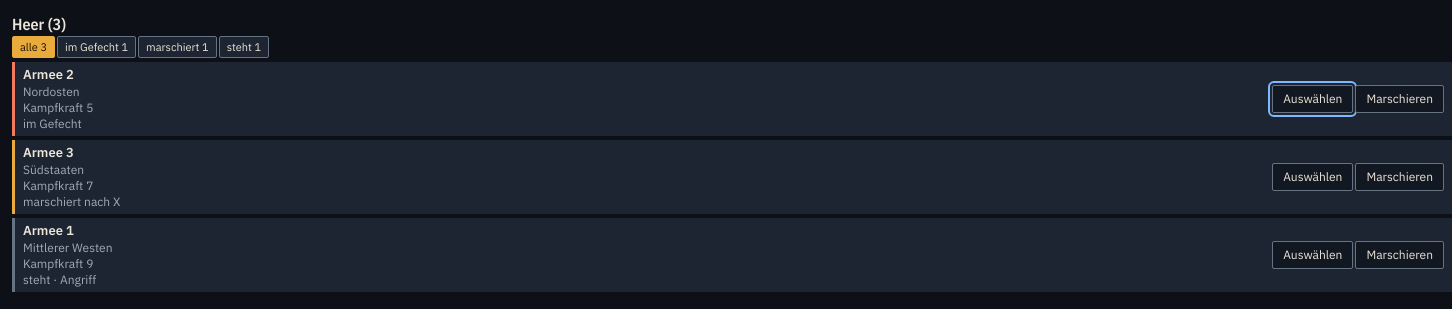
Test case: ArmiesPanel › filtert nach Auftrag und zaehlt in der Beschriftung
Click the button "marschiert 1". click: point(177, 47)
box: [138, 36, 217, 58]
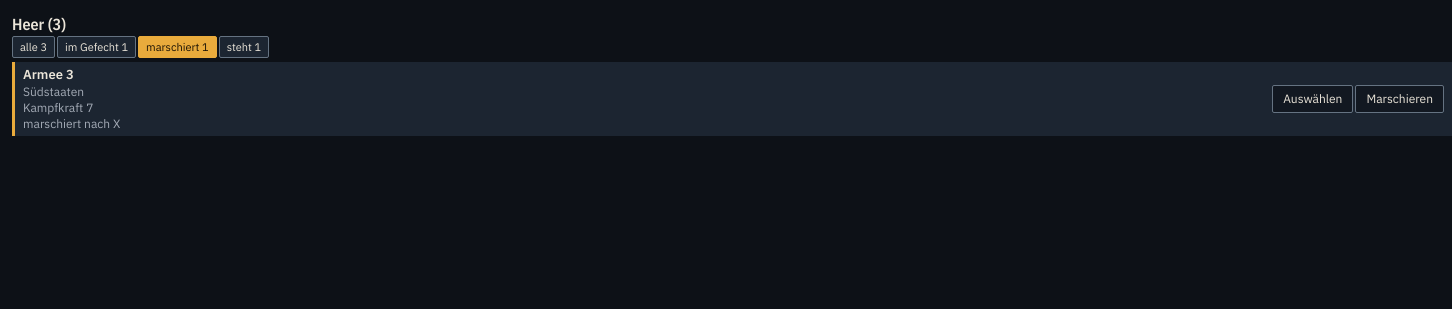
Now the number of list items is 1, box [12, 62, 1451, 136]
